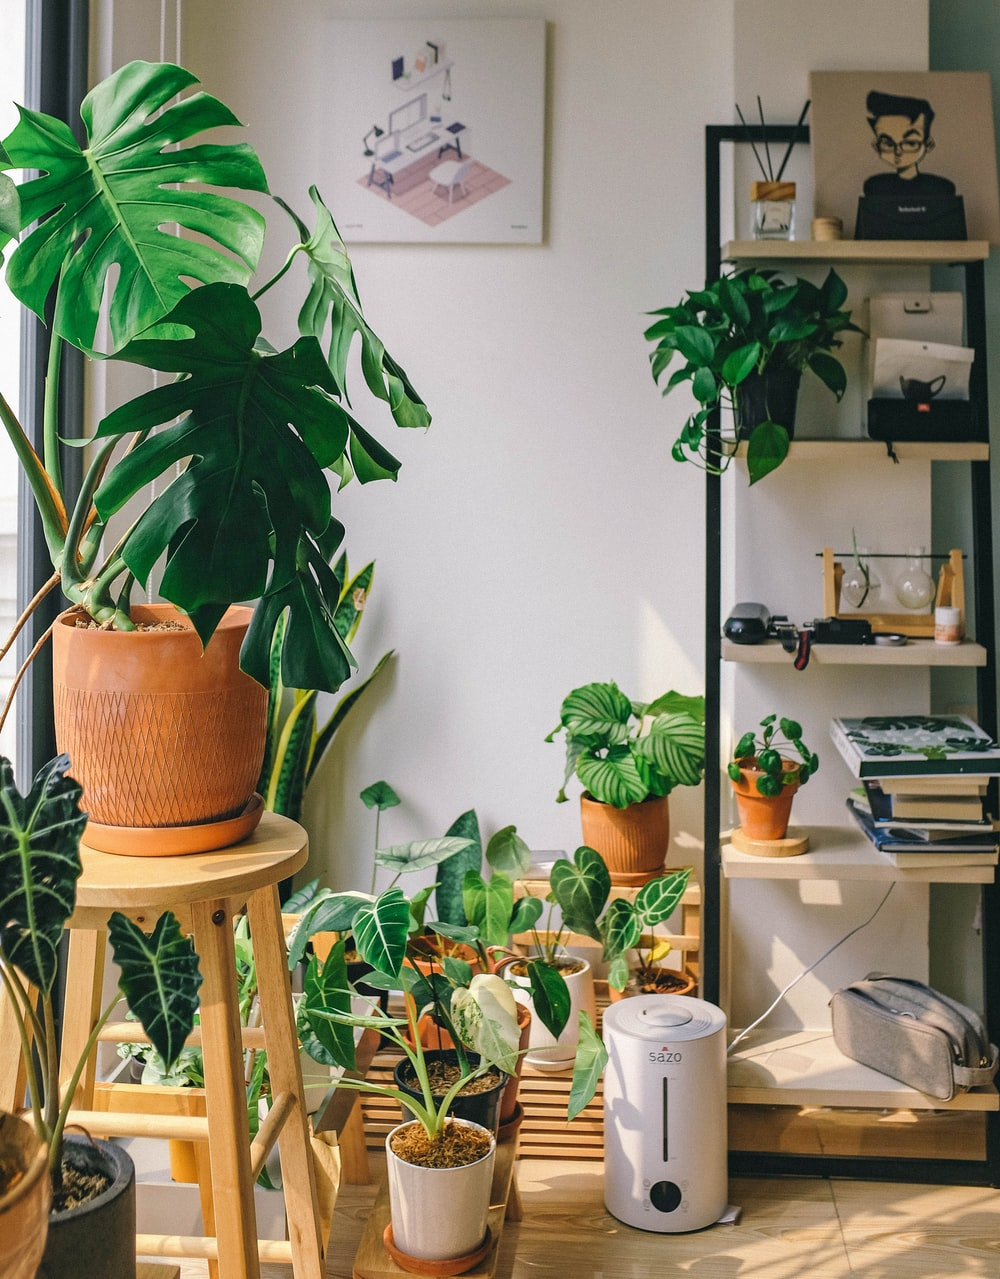buku: (830, 712, 997, 870)
lukisan: (325, 13, 549, 245), (807, 66, 1000, 241)
tanaman: (5, 55, 378, 826), (1, 795, 196, 1223), (319, 880, 498, 1257), (657, 262, 833, 453), (553, 673, 674, 881), (493, 834, 588, 1066), (728, 711, 807, 844)
